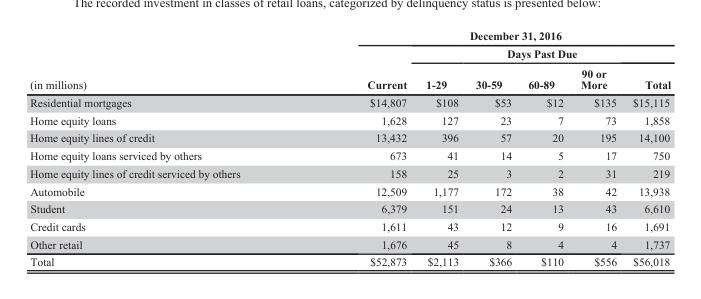table: (29, 28, 670, 267)
table column: (29, 28, 302, 267), (302, 28, 415, 267), (466, 28, 519, 267), (571, 28, 624, 267), (519, 28, 571, 267), (415, 28, 466, 267), (624, 28, 670, 267)
table column header: (29, 28, 670, 93)
table row: (29, 62, 670, 93), (29, 43, 670, 62), (29, 110, 670, 128), (29, 128, 670, 146), (29, 146, 670, 164), (29, 181, 670, 199), (29, 199, 670, 217), (29, 234, 670, 252), (29, 93, 670, 110), (29, 164, 670, 181), (29, 217, 670, 234), (29, 28, 670, 43), (29, 252, 670, 267)
table spanning cell: (29, 28, 302, 93), (302, 43, 415, 93), (302, 28, 670, 43), (415, 43, 670, 62)
